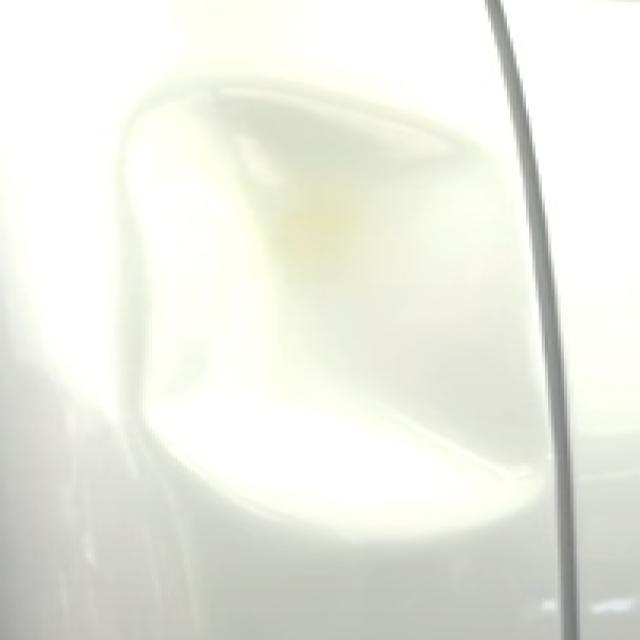dent: (128, 91, 556, 541)
